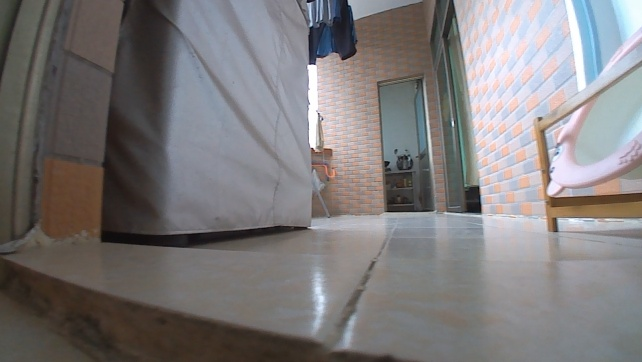door_anno: (410, 77, 437, 211)
